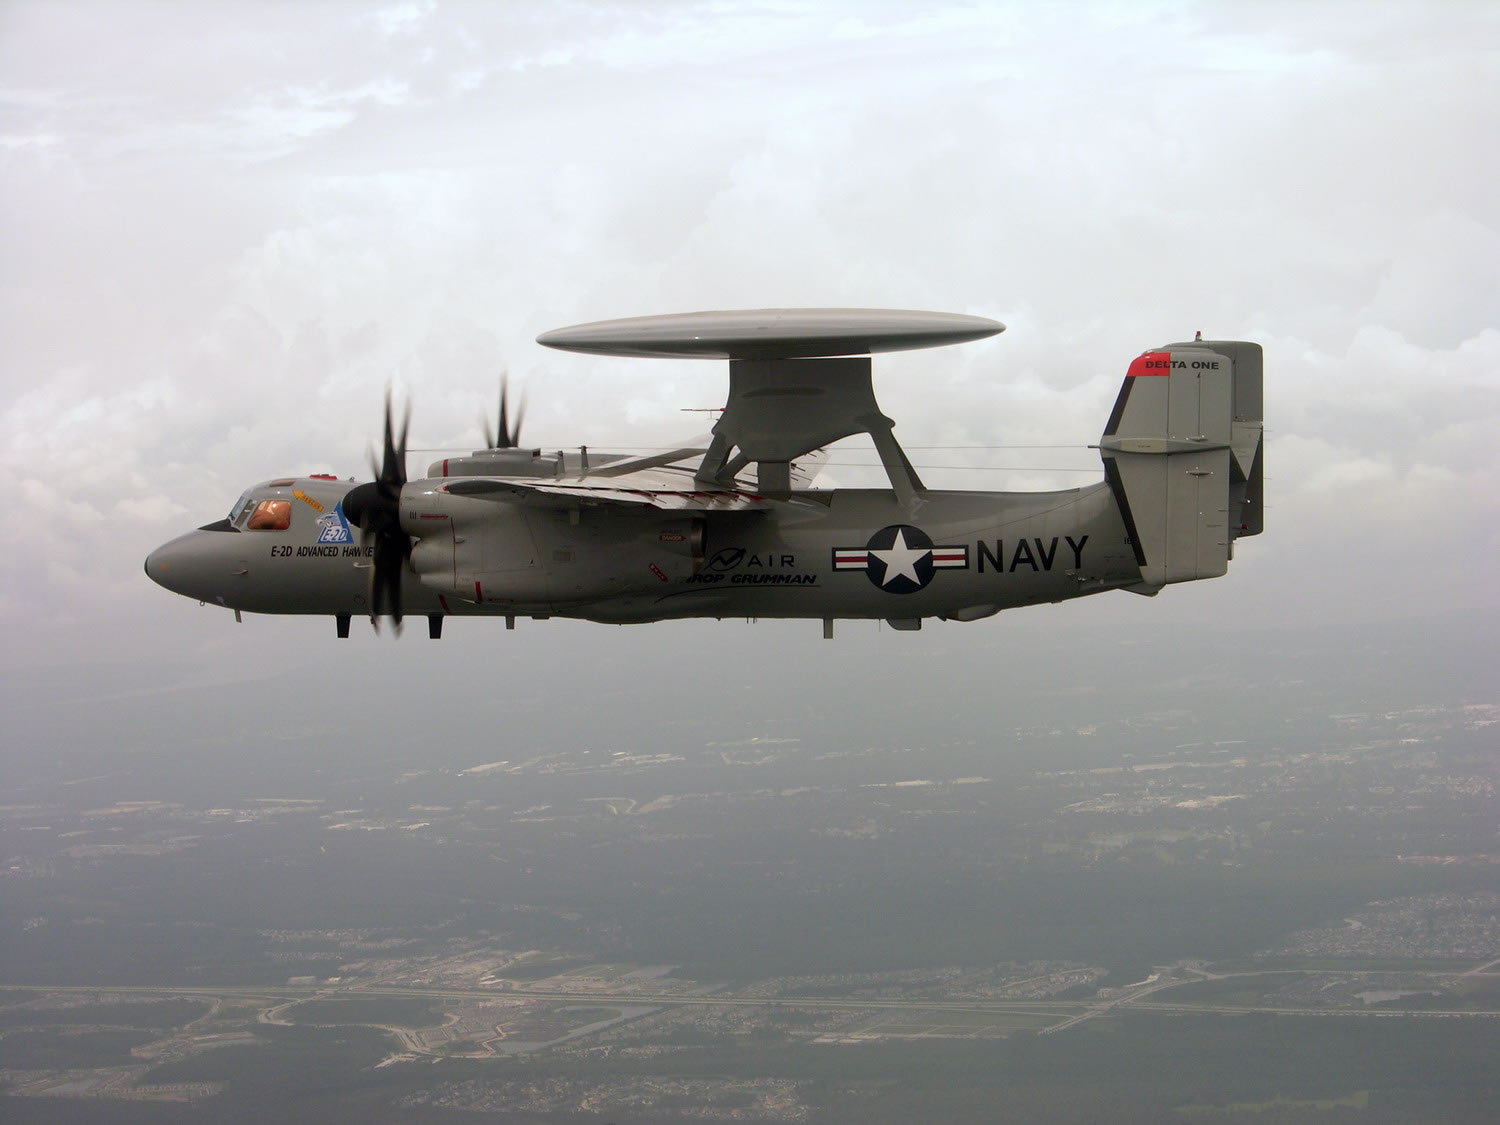E2: (143, 307, 1264, 639)
